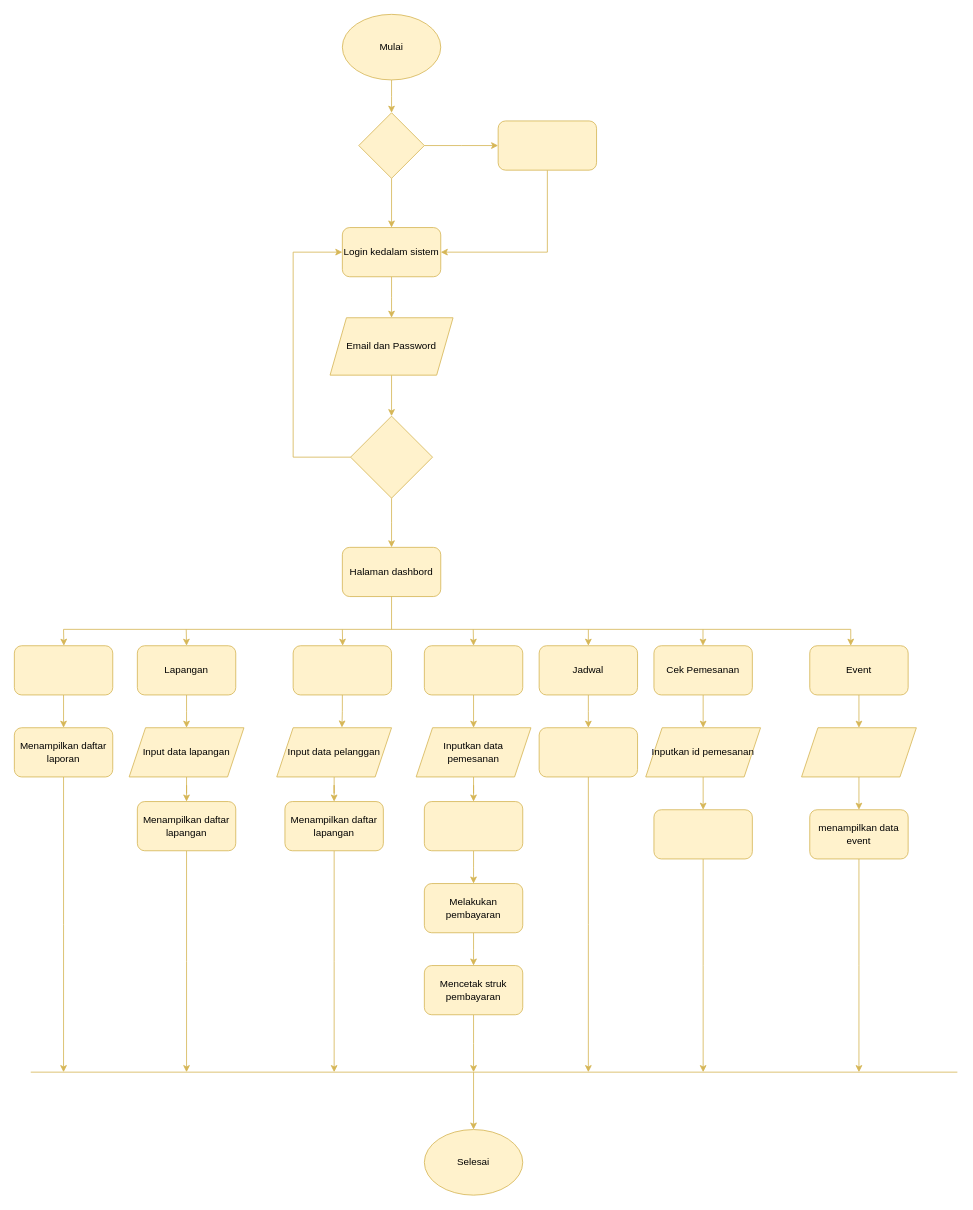
Image size: 973x1210. Some labels were removed from this diagram. Here are the shapes that lost their labels. From the top down, the box of each, then its label:
(497, 120, 597, 170): Register / Berlangganan
(350, 415, 433, 498): Cek validasi
(14, 645, 113, 695): Laporan
(292, 645, 392, 695): Pelanggan
(424, 645, 523, 695): Pemesanan
(538, 727, 638, 777): Menampilkan daftar jadwal
(801, 727, 916, 777): inptu data event
(424, 801, 523, 851): Menampilkan daftar pemesanan
(653, 809, 752, 859): Menampilkan data pemesanan sesuai id pemesanan
